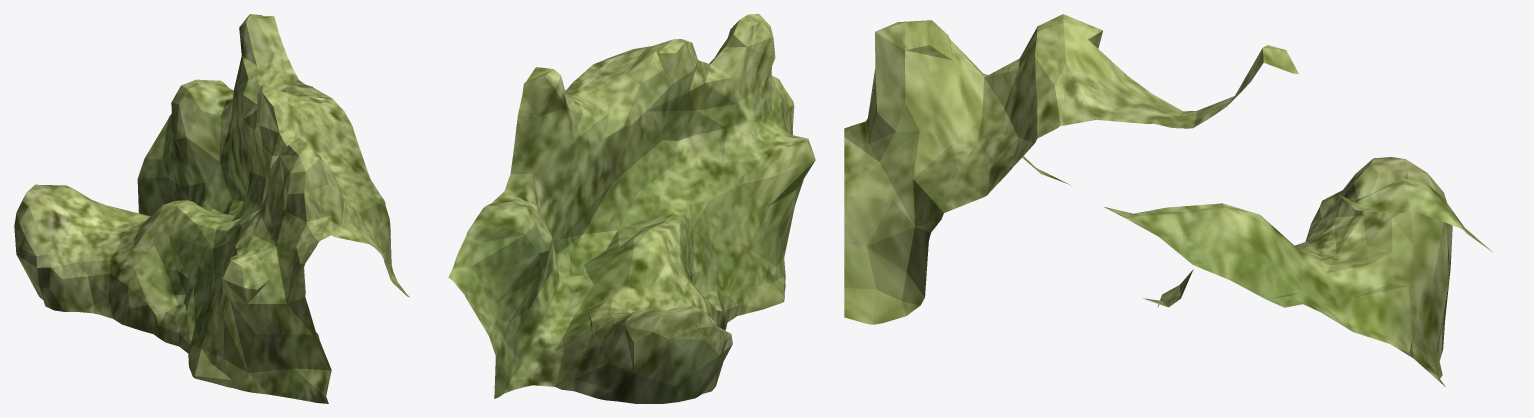
3 views of the same model, side by side, from view 1: azimuth 30°, elevation 25°; view 2: azimuth 150°, elevation 25°; view 3: azimuth 270°, elevation 25° (orthographic). The views are drawn at different scales.
Size of the model in its own units: 1.61 by 1.82 by 2.95.
Materials: 2 (2 with a texture image).
